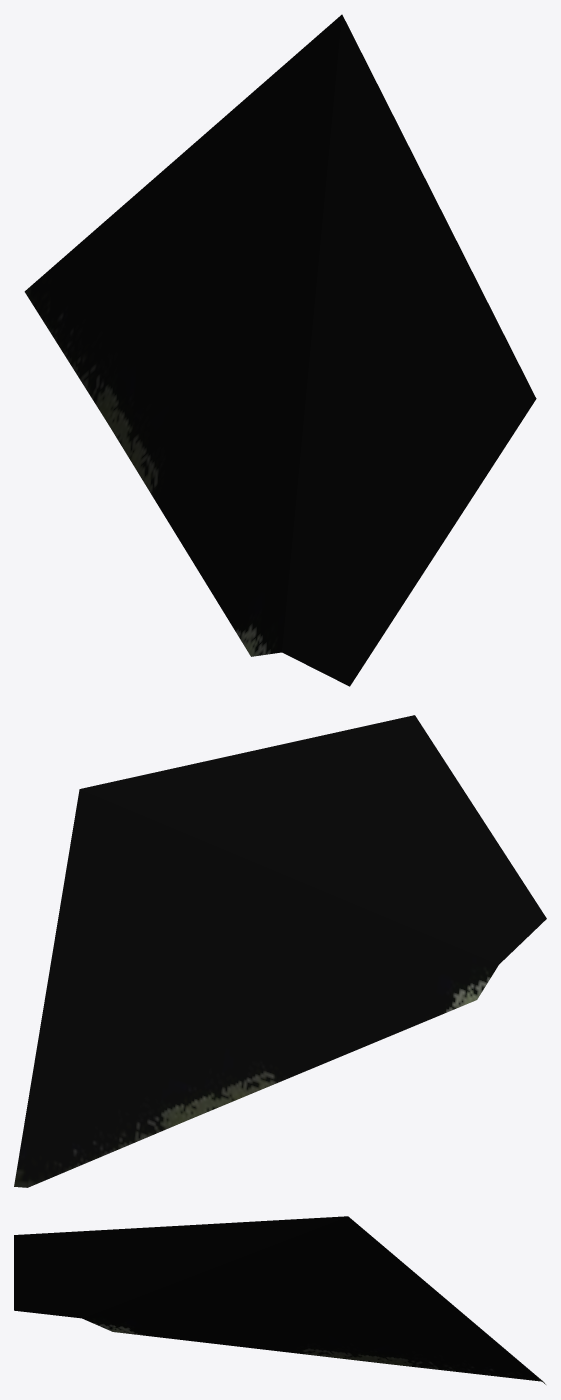
3 renders of one model, top to bottom at view 1: azimuth 30°, elevation 25°; view 2: azimuth 150°, elevation 25°; view 3: azimuth 270°, elevation 25°, orthographic. The views are drawn at different scales.
Bounding box in the file's own units: 1.89 × 2.16 × 5.34.
1 material, 1 textured.
